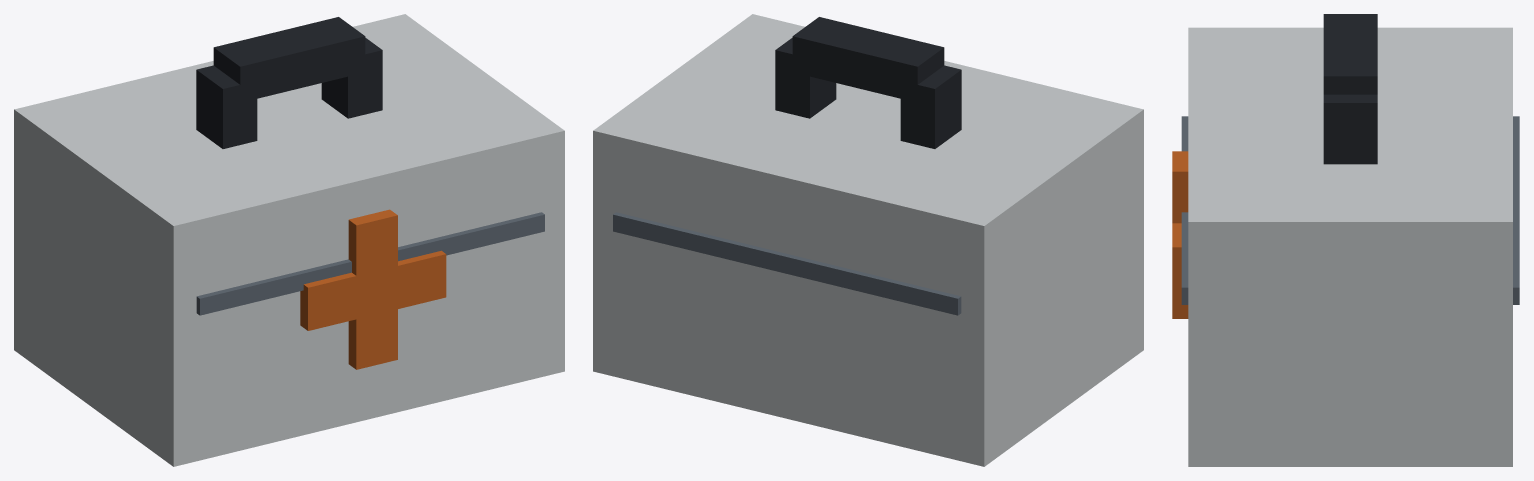
Rendered from medpac.glb.
The picture shows the model from 3 angles, left to right: view 1: azimuth 30°, elevation 25°; view 2: azimuth 150°, elevation 25°; view 3: azimuth 270°, elevation 25°; orthographic projection.
Parts seen in each view (by area): view 1: medpac; view 2: medpac; view 3: medpac.
Boxes of the visible parts, box(x1,y1,x2,y2) form: medpac: box(14, 14, 564, 466); medpac: box(593, 14, 1143, 466); medpac: box(1172, 14, 1519, 466).
Size of the model in its own units: 0.34 by 0.265 by 0.257.
